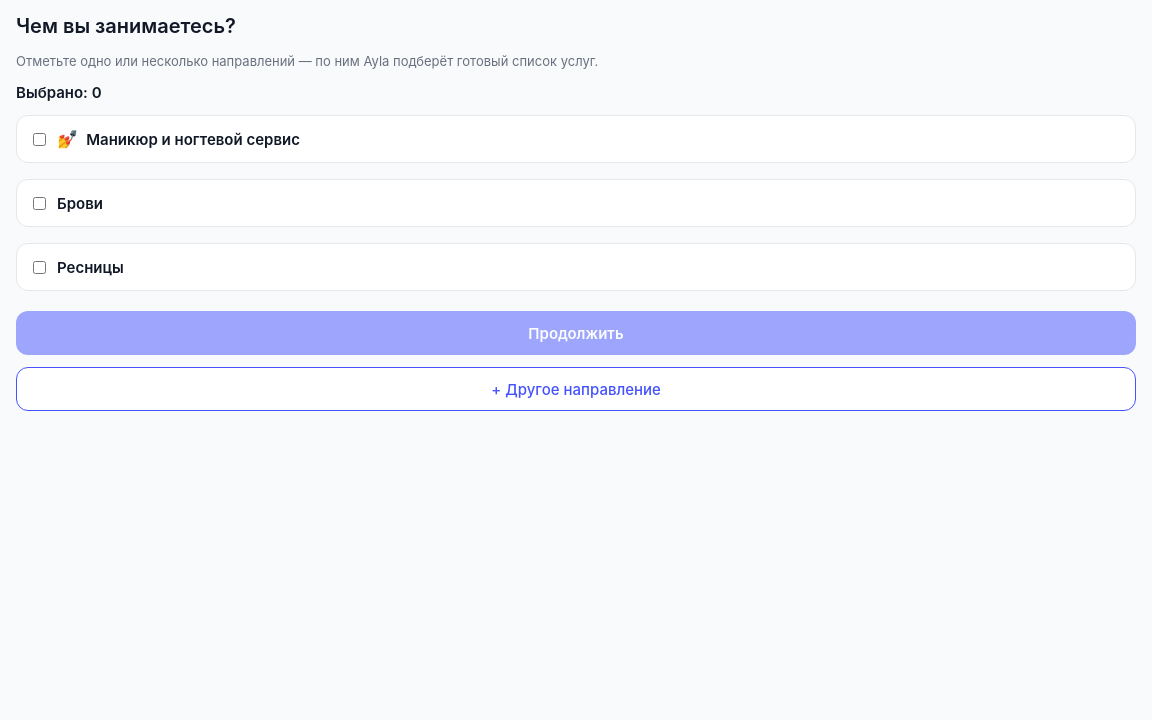
Test: «Другое направление» — заявка о разрыве канона, не новая категория › ввод «татуаж» не создаёт направления: список тот же, единственный POST — заявка
Click the button "+ Другое направление".
click(576, 389)  # box [16,367,1136,411]
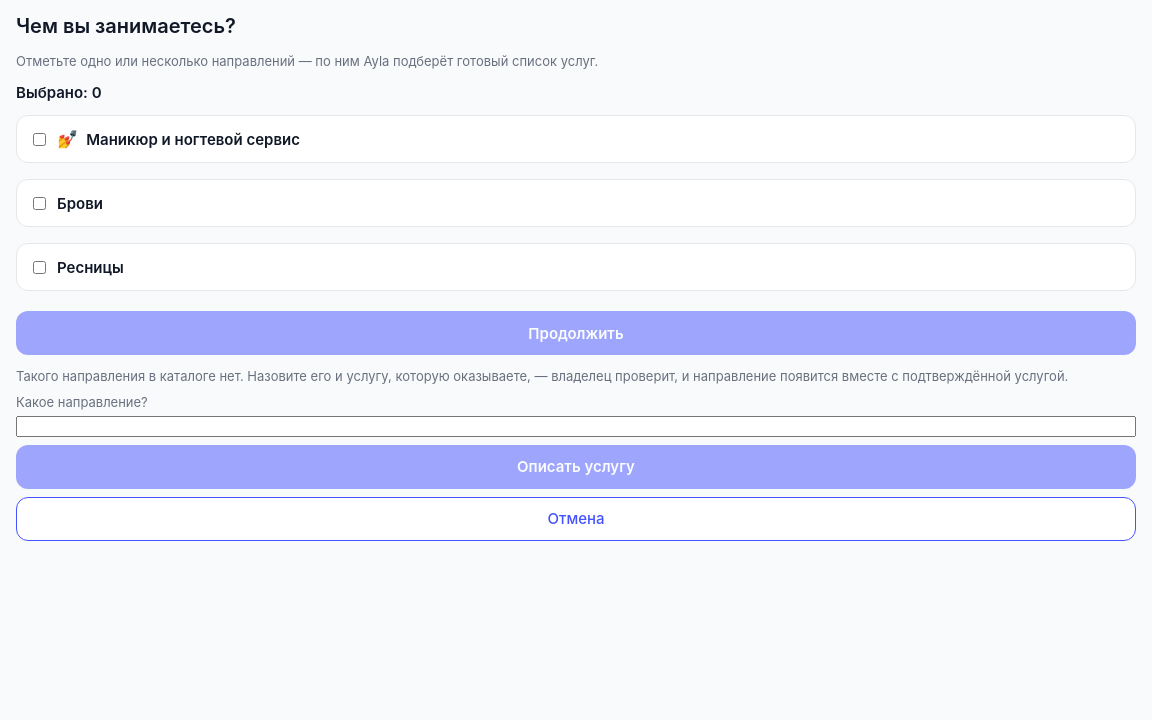
Type "татуаж" into the field labelled "Какое направление?".
click(576, 426); type("татуаж")  # box [16,416,1136,437]
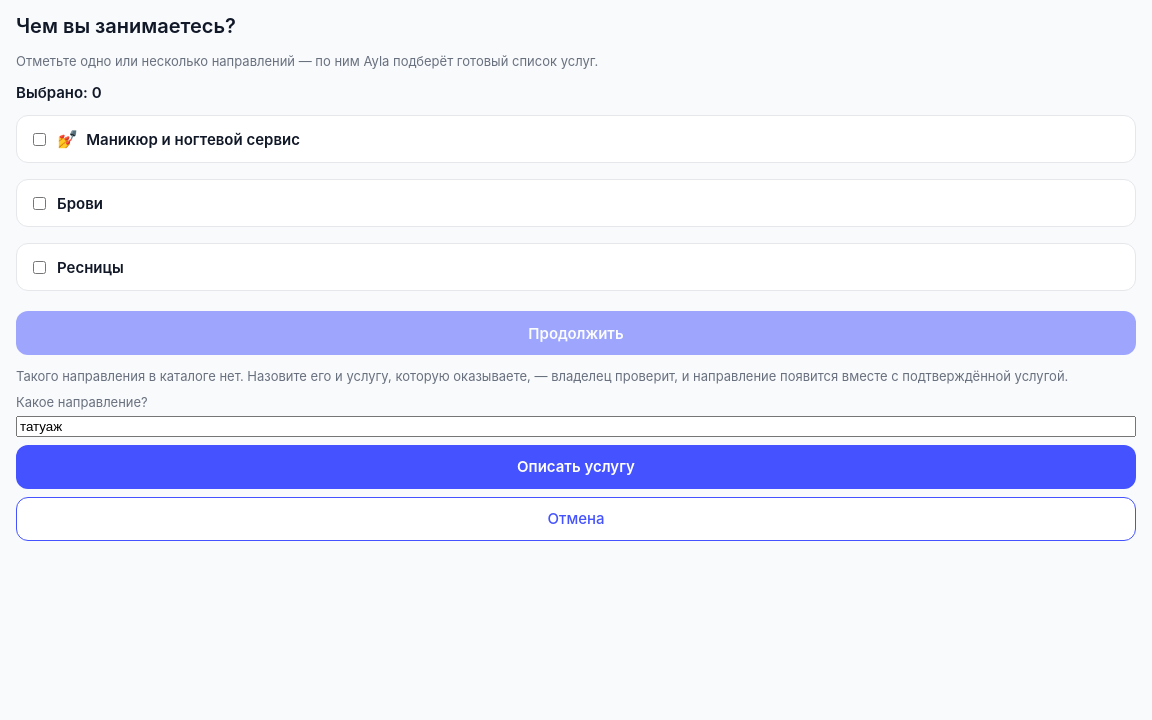
Click the button "Описать услугу".
click(576, 467)  # box [16,445,1136,489]
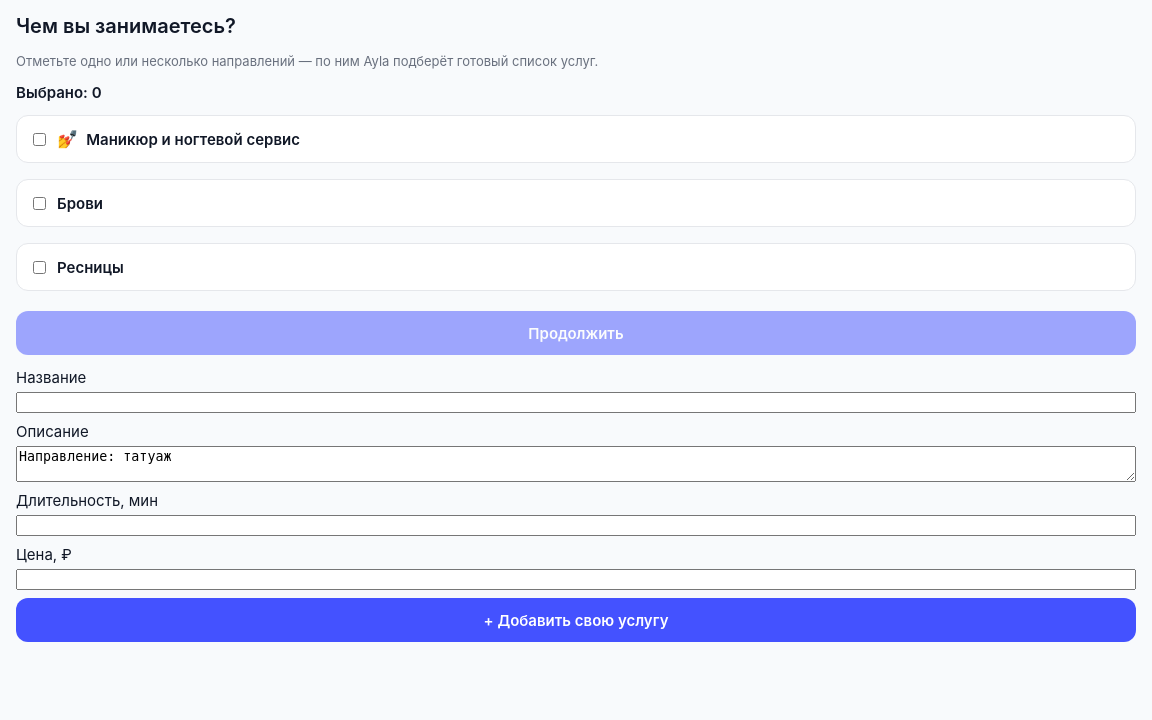
Expected: the text box labelled "Описание" holds "Направление: татуаж", [16,446,1136,482]
Type "Перманентный макияж бровей" into the field labelled "Название".
click(576, 403); type("Перманентный макияж бровей")  # box [16,392,1136,413]
Type "90" into the field labelled "Длительность, мин".
click(576, 526); type("90")  # box [16,515,1136,536]
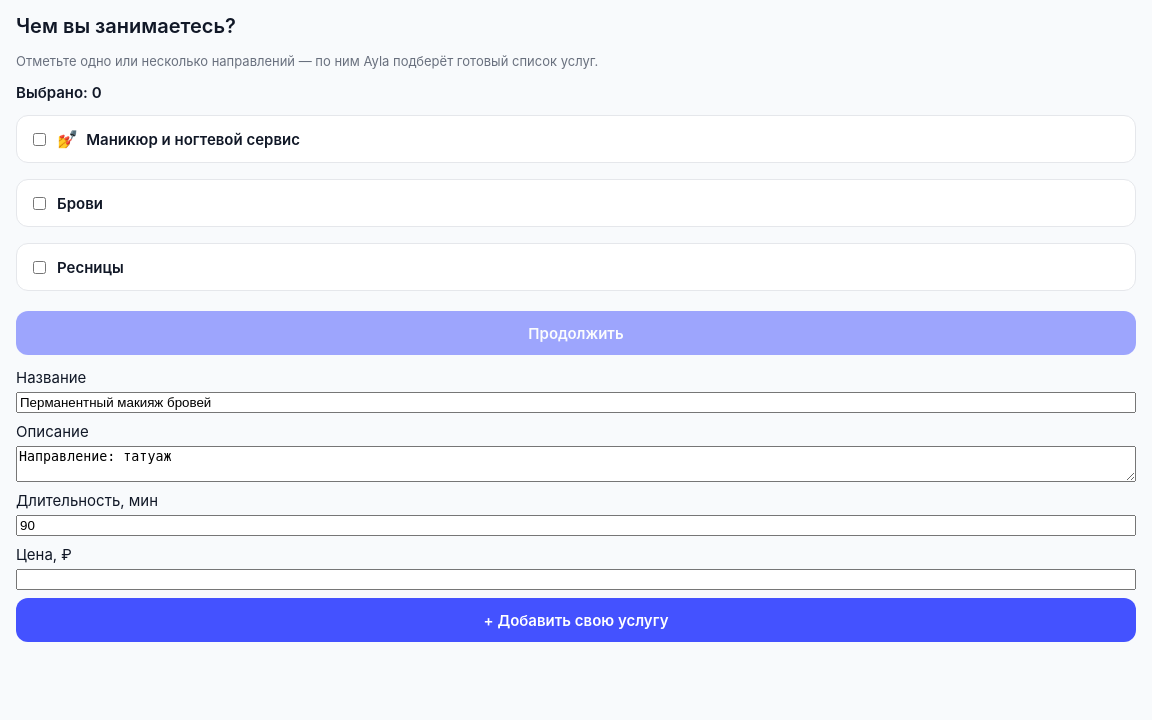
Type "5000" into the field labelled "Цена, ₽".
click(576, 580); type("5000")  # box [16,569,1136,590]
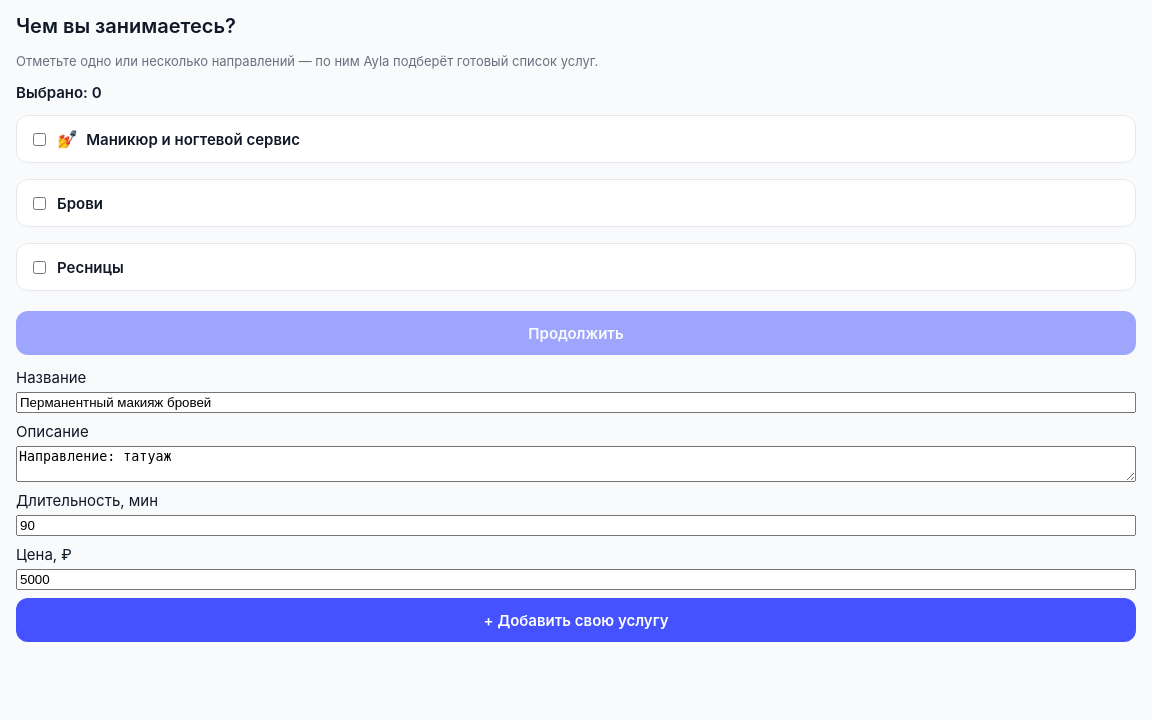
Submit the form labelled "Название", box [16,367,1136,642]
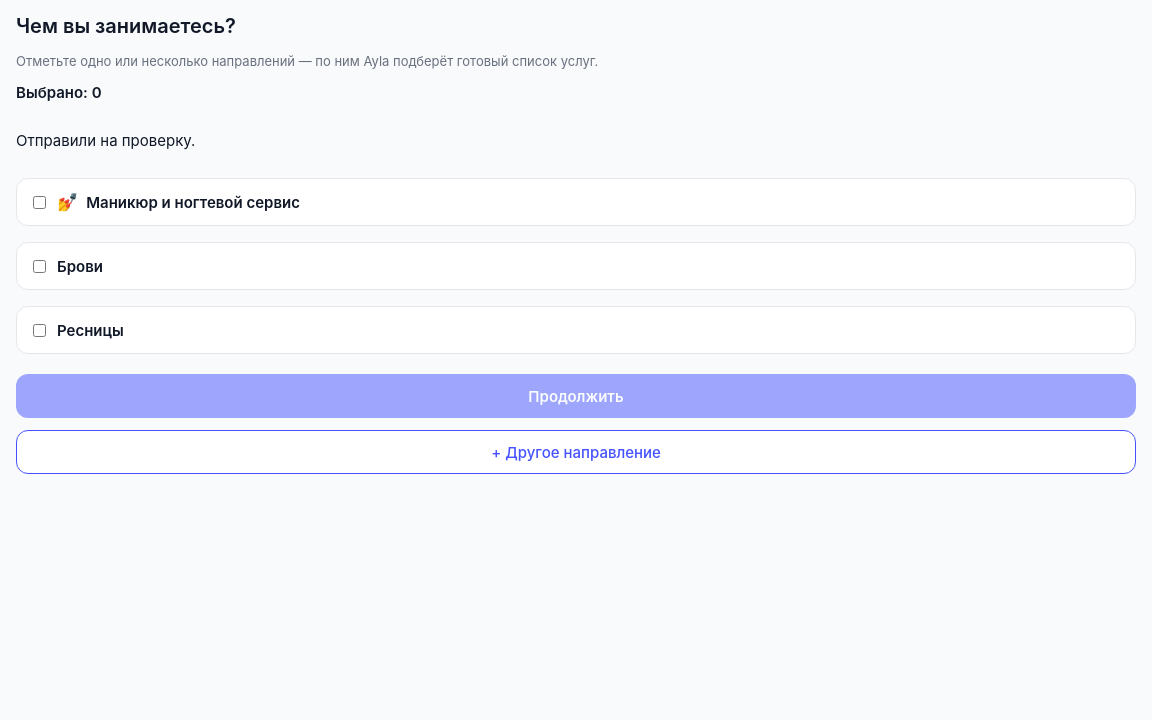
Expected: the text "татуаж" is not shown
Expected: the text "Отправили на проверку." is shown, [16,131,195,150]
Expected: the number of checkboxes is 3, [33,196,46,209]; [33,260,46,273]; [33,324,46,337]
